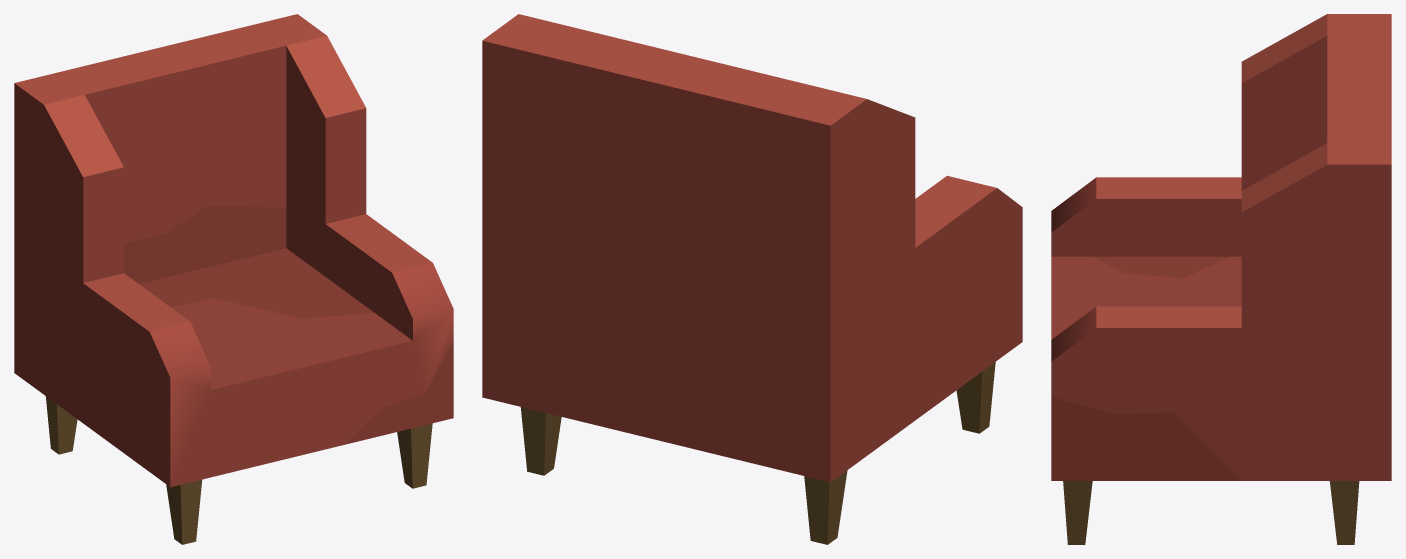
File: AI_Prop_Chair_02.fbx
3 views of the same model, side by side, from view 1: azimuth 30°, elevation 25°; view 2: azimuth 150°, elevation 25°; view 3: azimuth 270°, elevation 25° (orthographic). The views are drawn at different scales.
Visible parts, largest first — view 1: AI_Prop_Chair_02; view 2: AI_Prop_Chair_02; view 3: AI_Prop_Chair_02.
Part boxes in pixels (x1,y1,x2,y2): AI_Prop_Chair_02: (14, 14, 453, 544); AI_Prop_Chair_02: (482, 14, 1022, 544); AI_Prop_Chair_02: (1051, 14, 1391, 544).
Bounding box in the file's own units: 1.53 × 1.85 × 1.46.
